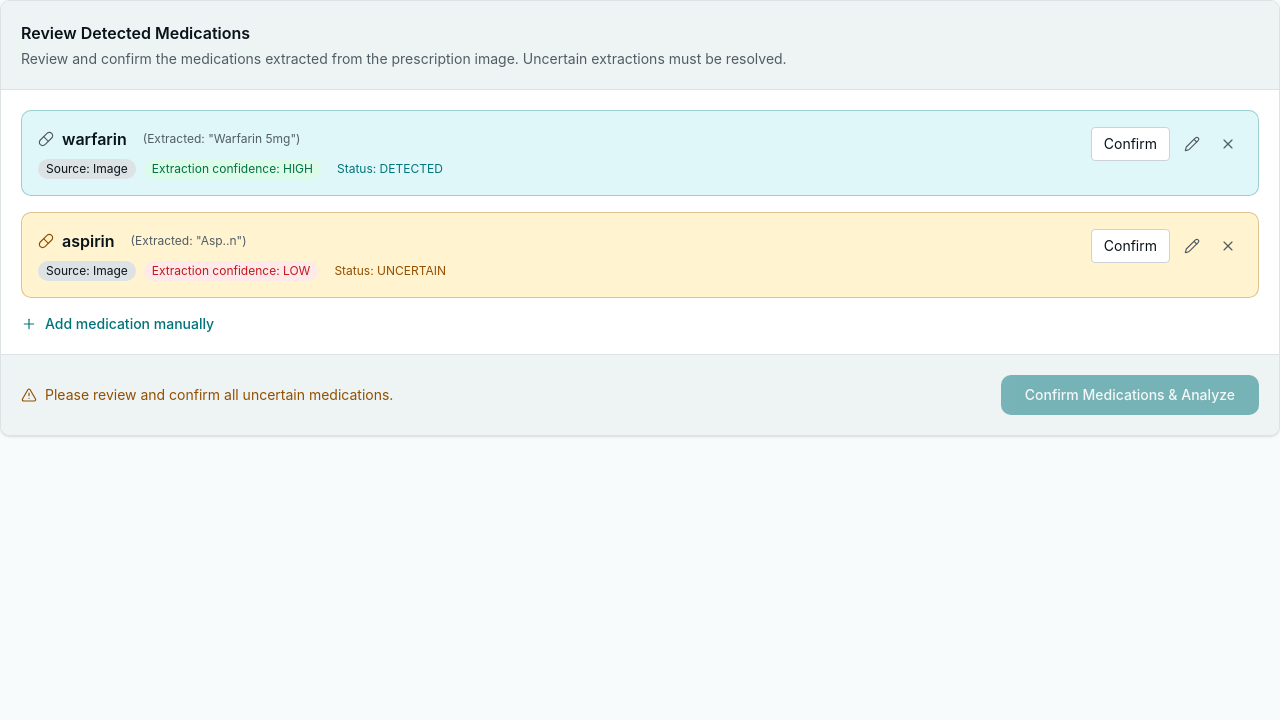
Test case: MedicationConfirmationPanel › TEST 7: User can manually add medication
The width and height of the screenshot is (1280, 720).
Step 1. Click the button "Add medication manually" → (118, 324), box [21,314,214,334]
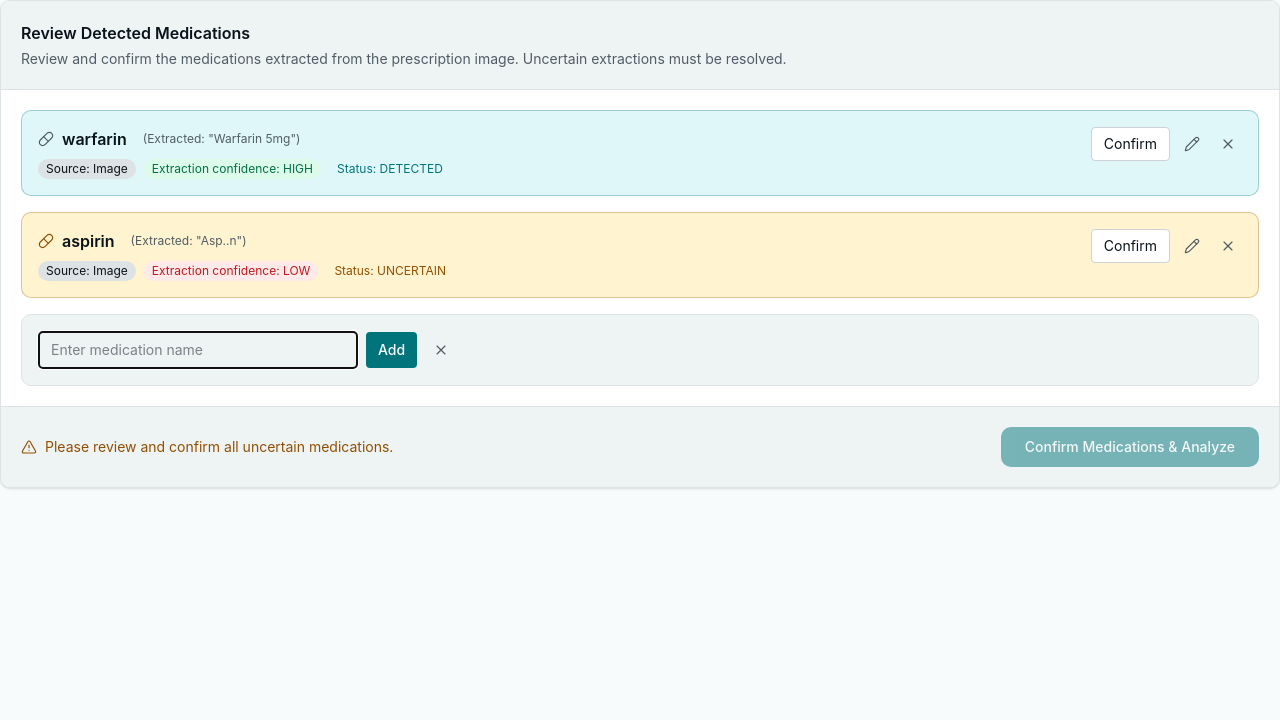
Step 2. Type "paracetamol" into the field with placeholder "Enter medication name" → (198, 350), box [38,331,358,369]
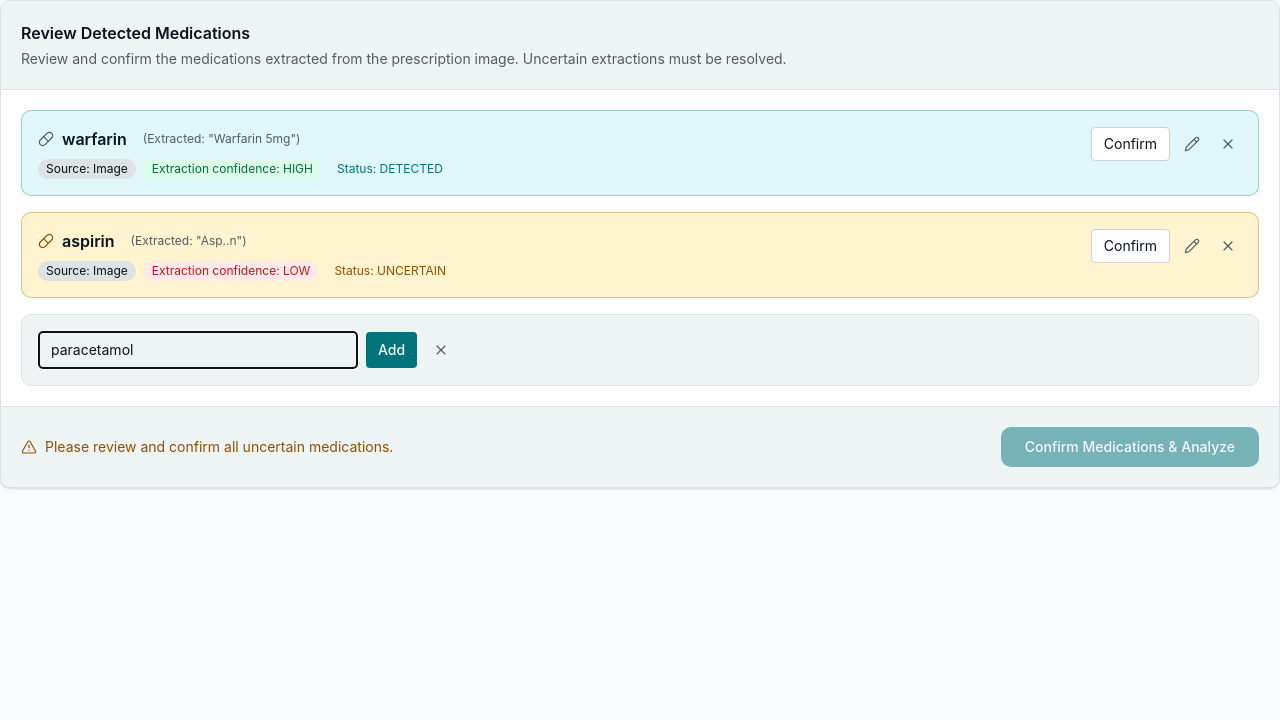
Step 3. Click the button "Add" → (392, 350), box [366,332,417,368]
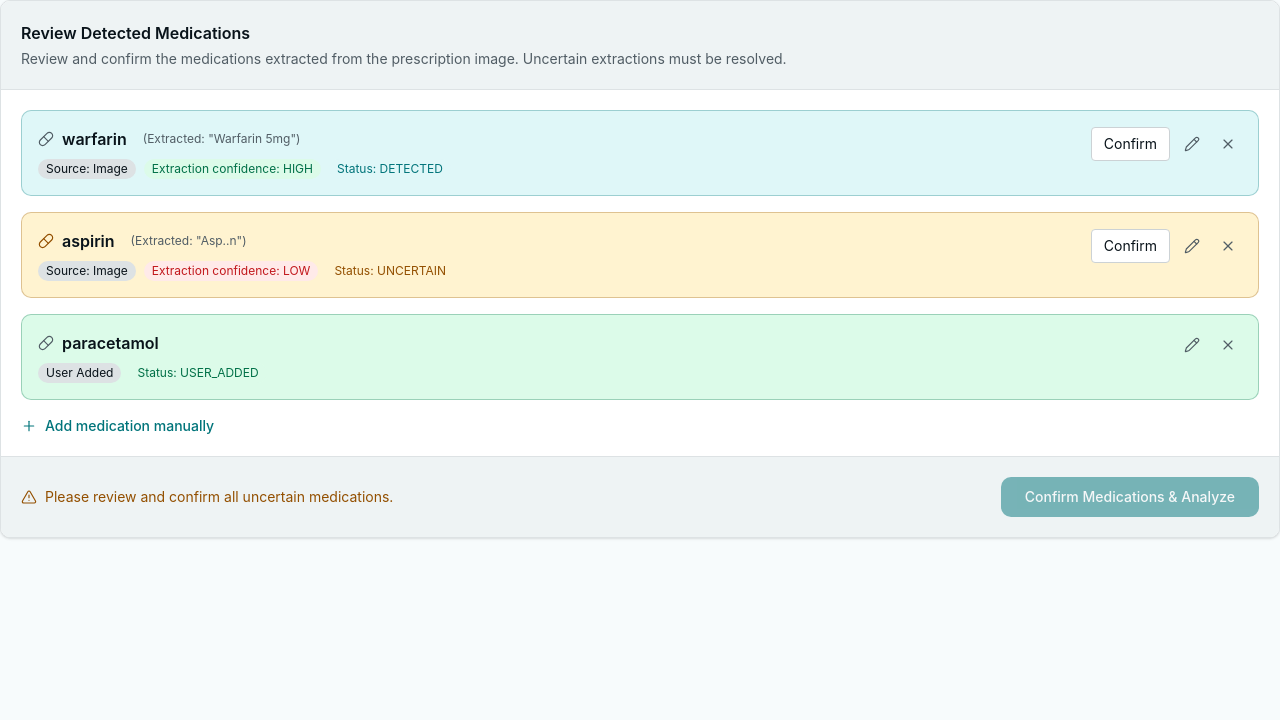
Now the text "paracetamol" is shown, box [62,331,159,355]
Now the text "User Added" is shown, box [38,363,122,383]
